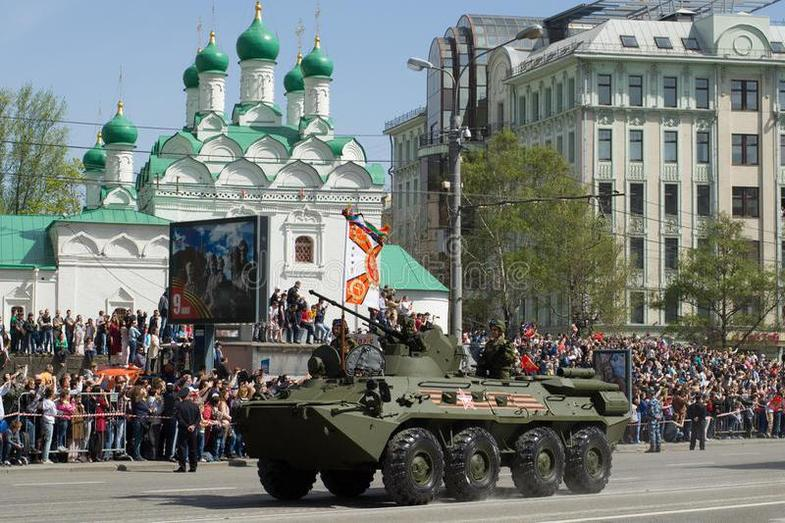btr: (231, 361, 627, 502)
